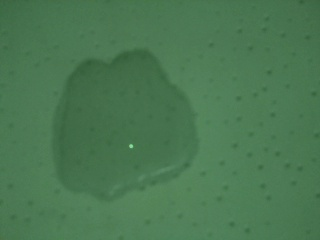Water_detected: (59, 66, 179, 180)
